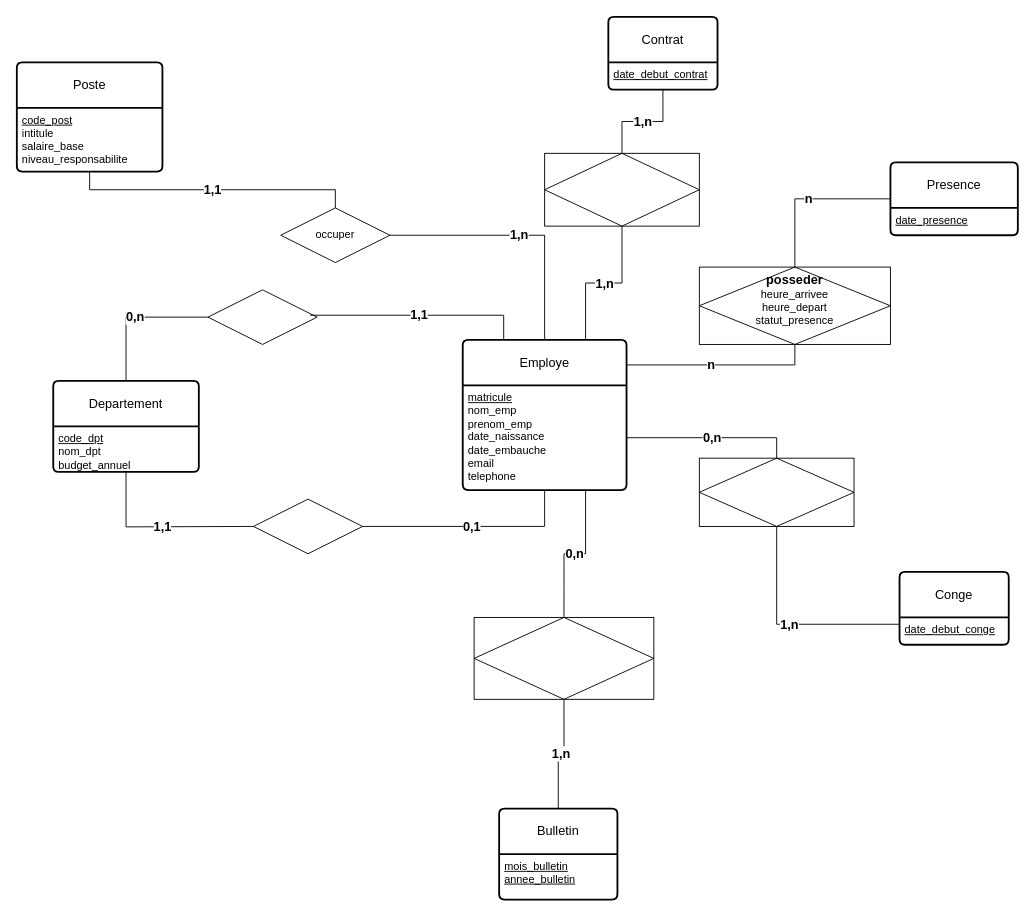
Image size: 1034x915. Some labels were removed from this diagram. The shapes that lost their labels are listed below. From the top down, each one's centre as x and y in pixels, then its label:
At point 621,189: "signer type_contrat salaire_brut_contrat date_fin_contrat".
At point 262,316: "appartenir".
At point 776,491: "prendre type_conge statut_conge date_fin_conge".
At point 308,526: "diriger".
At point 563,658: "affecter salaire_brut_bulletin nb_jours_travaille nb_absences_injustifiees".
